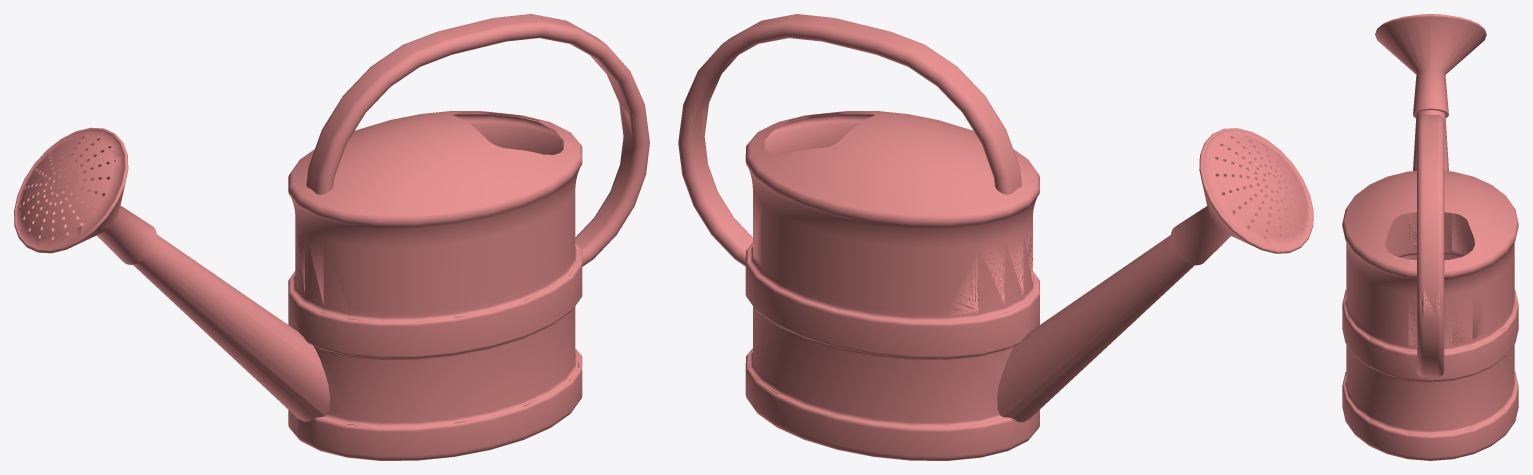
Rendered from waterCan_1.dae.
3 renders of one model, left to right at view 1: azimuth 30°, elevation 25°; view 2: azimuth 150°, elevation 25°; view 3: azimuth 270°, elevation 25°, orthographic. The views are drawn at different scales.
Visible parts, largest first — view 1: group_0_001; view 2: group_0_001; view 3: group_0_001.
Part boxes in pixels (x1,y1,x2,y2): group_0_001: (14, 14, 649, 460); group_0_001: (678, 14, 1313, 460); group_0_001: (1342, 14, 1518, 460).
Bounding box in the file's own units: 0.8117 × 0.2592 × 0.4677.
